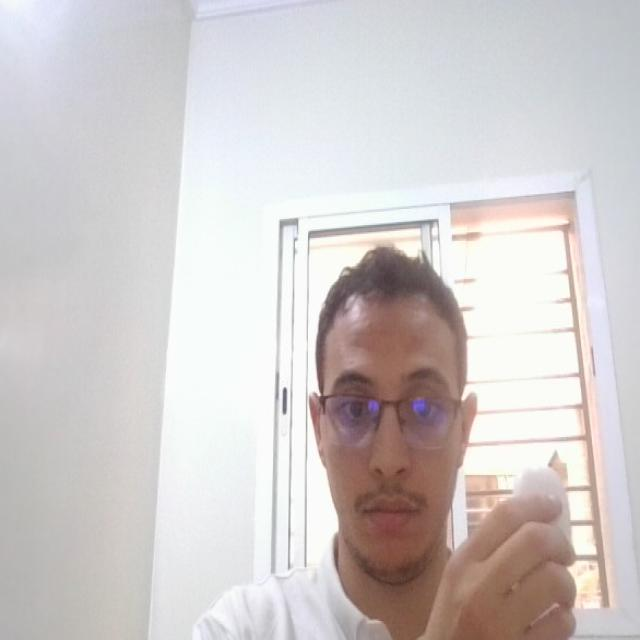airpods: (510, 455, 575, 562)
